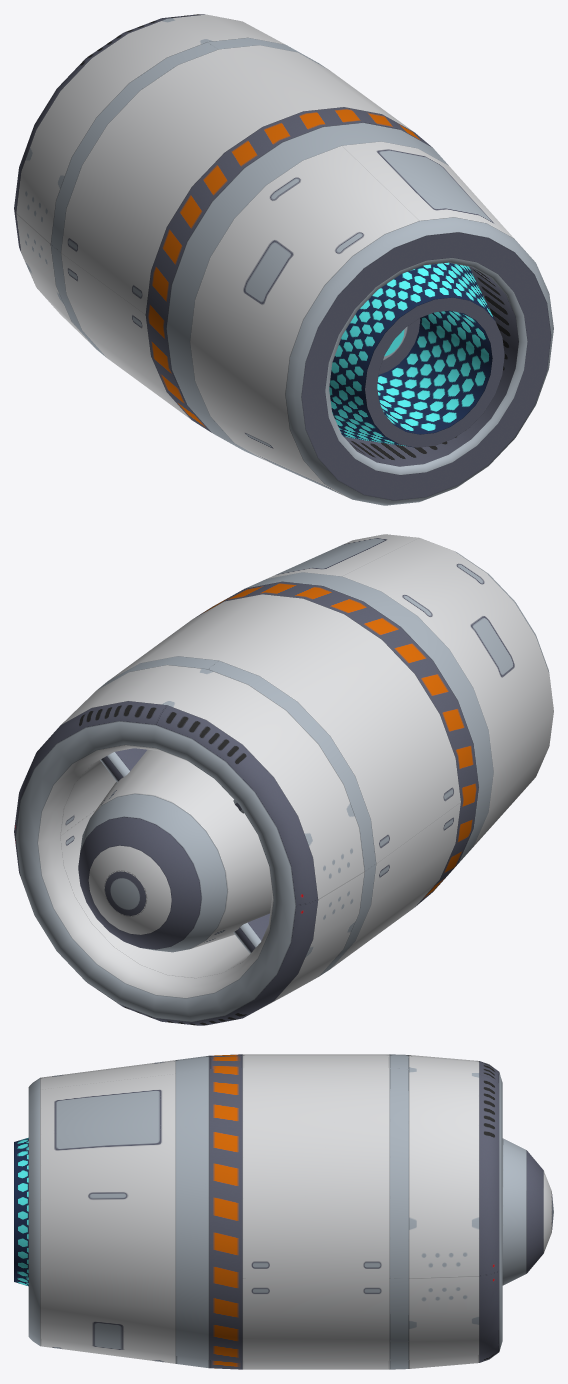
Rendered from Reactor_02.FBX.
3 renders of one model, top to bottom at view 1: azimuth 30°, elevation 25°; view 2: azimuth 150°, elevation 25°; view 3: azimuth 270°, elevation 25°, orthographic. The views are drawn at different scales.
Visible parts, largest first — view 1: Reactor_02, Turn; view 2: Reactor_02; view 3: Reactor_02, Turn.
Boxes of the visible parts, x1=… form: Reactor_02: x1=14, y1=14, x2=553, y2=505; Turn: x1=329, y1=262, x2=504, y2=447; Reactor_02: x1=14, y1=534, x2=553, y2=1025; Reactor_02: x1=28, y1=1054, x2=553, y2=1369; Turn: x1=14, y1=1137, x2=28, y2=1286.
Bounding box in the file's own units: 6.67 × 6.67 × 11.37.
